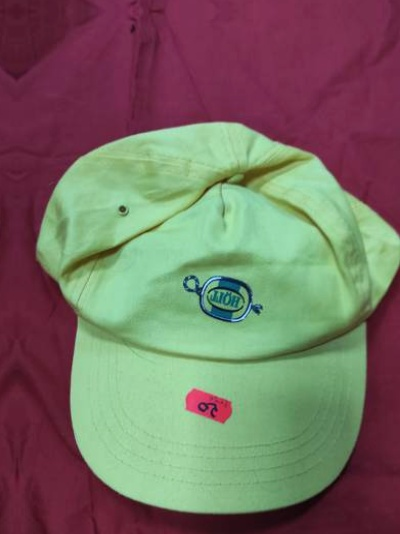Hat: (35, 95, 400, 510)
